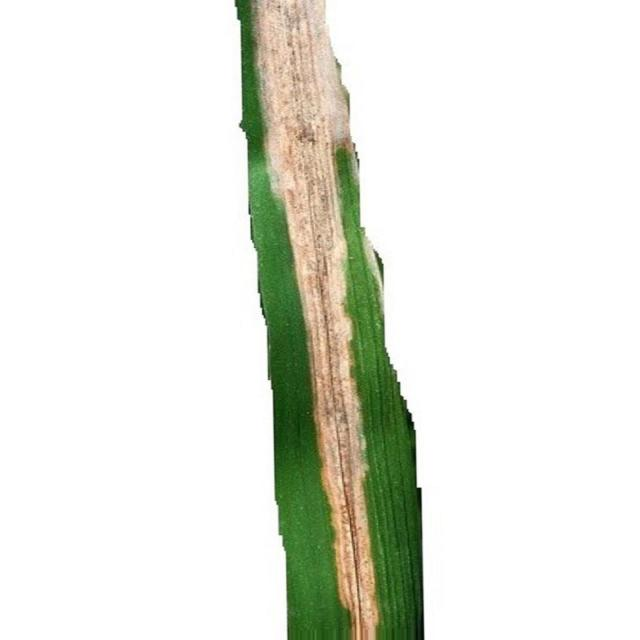Bacterial_Leaf_Blight: (250, 0, 380, 639), (361, 239, 382, 332)
